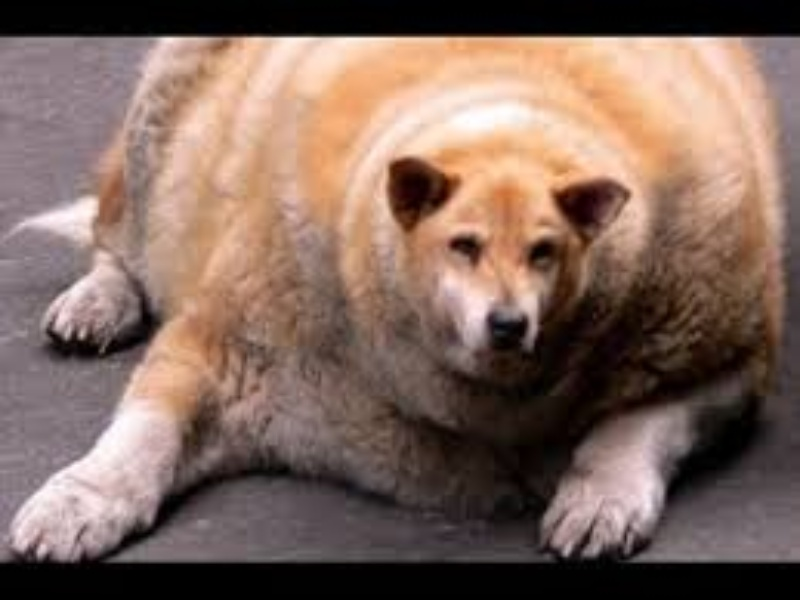dog: (30, 60, 784, 568)
